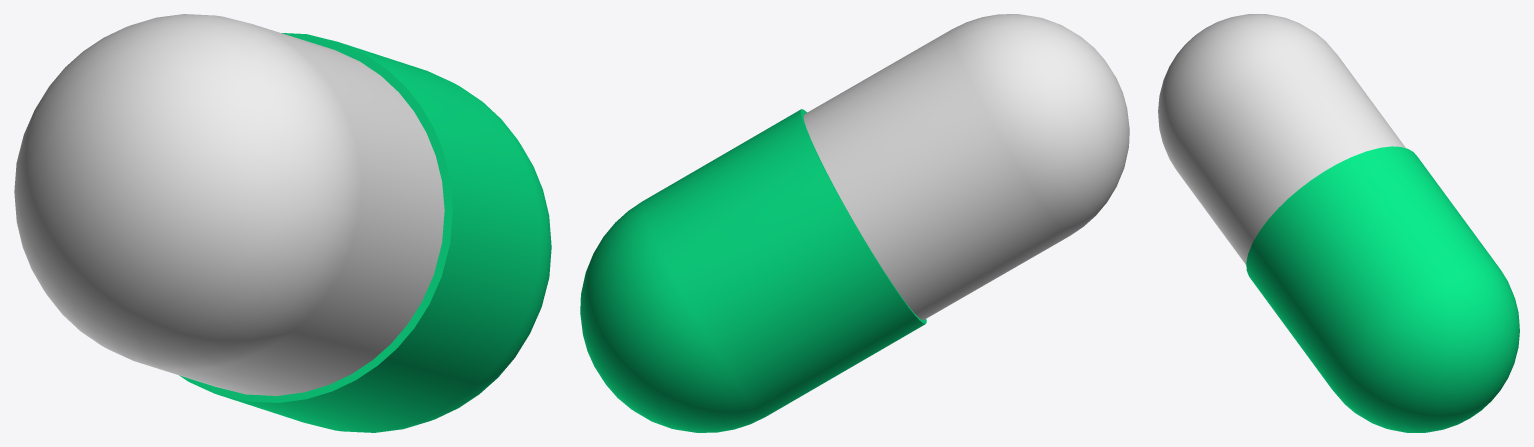
The model's file is bird.glb.
3 views of the same model, side by side, from view 1: azimuth 30°, elevation 25°; view 2: azimuth 150°, elevation 25°; view 3: azimuth 270°, elevation 25° (orthographic). The views are drawn at different scales.
Visible parts, largest first — view 1: Roundcube.001_Material.001_0.001; view 2: Roundcube.001_Material.001_0.001; view 3: Roundcube.001_Material.001_0.001.
Part boxes in pixels (box(x1,y1,x2,y2)): Roundcube.001_Material.001_0.001: box(14, 14, 551, 432); Roundcube.001_Material.001_0.001: box(580, 14, 1129, 432); Roundcube.001_Material.001_0.001: box(1158, 14, 1519, 432).
Size of the model in its own units: 0.1638 by 0.1405 by 0.1463.
